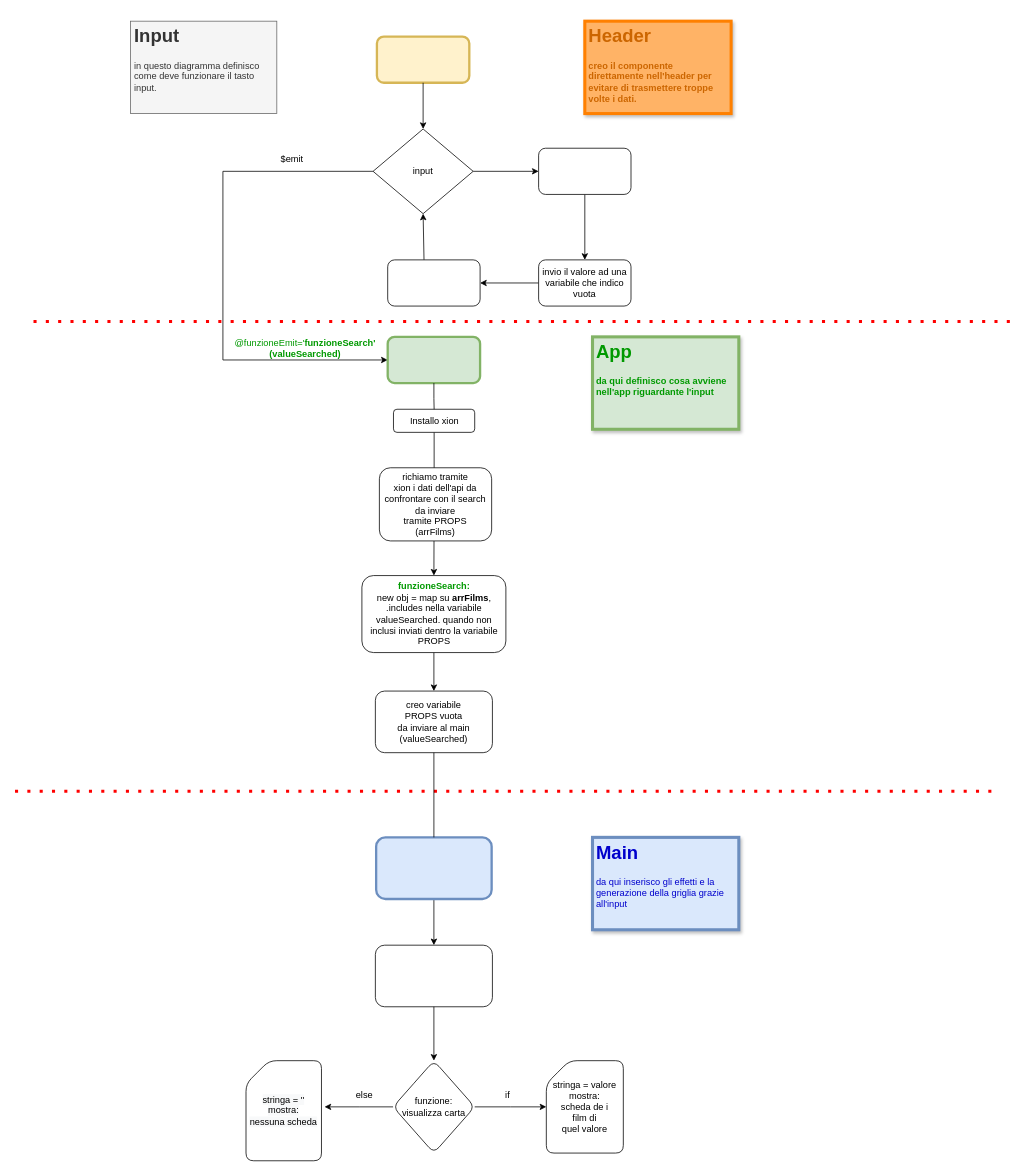
This 1033x1174 diagram has some shape labels left out. Here are the shapes that lost their labels. From the top down, the centre of each, then its label:
point (422, 59): HEADER
point (584, 170): scrivo nell'input un valore
point (433, 282): la variabile invia il contenuto della stringa all'emit
point (433, 359): APP
point (433, 868): MAIN
point (433, 975): ricevo tramite PROPS i dati della stringa
